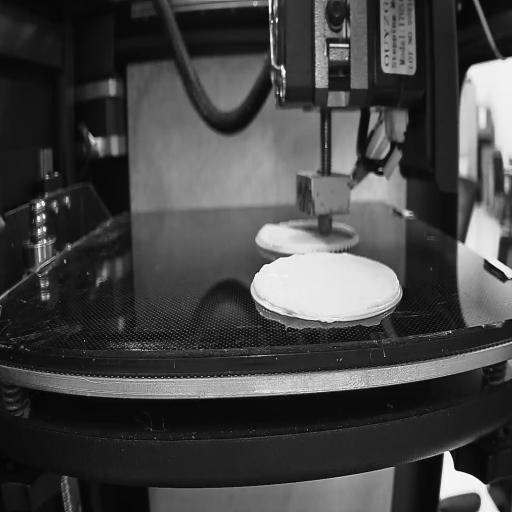over_extrusion: (366, 279, 401, 313), (252, 264, 270, 302)
